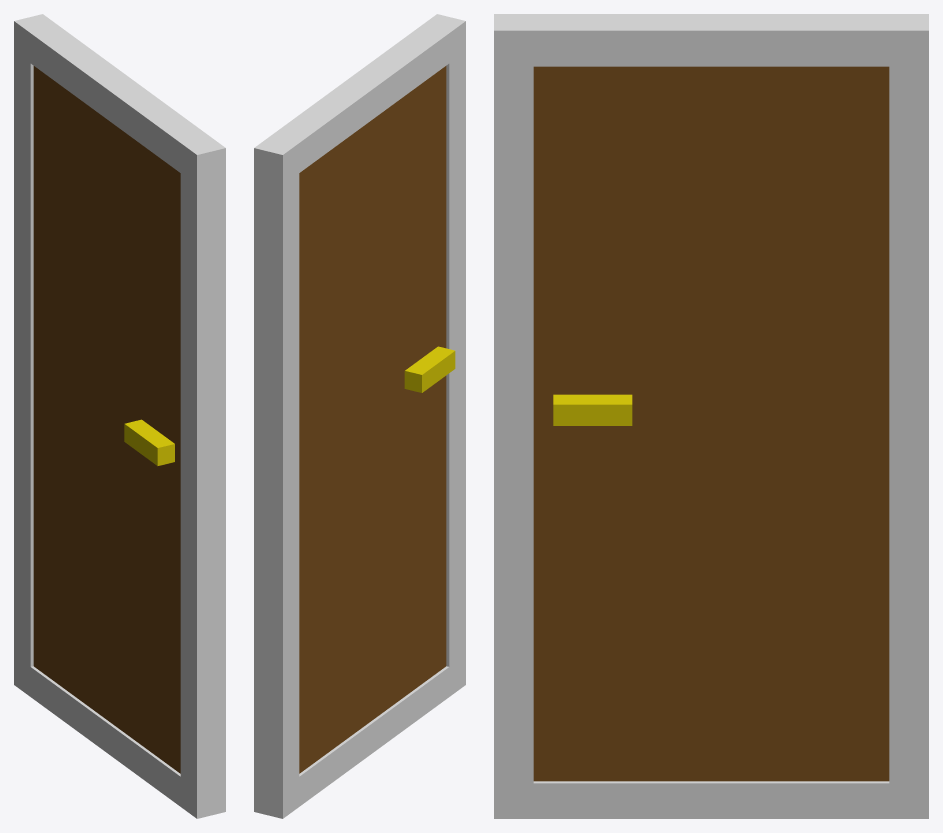
File: door.fbx
3 views of the same model, side by side, from view 1: azimuth 30°, elevation 25°; view 2: azimuth 150°, elevation 25°; view 3: azimuth 270°, elevation 25° (orthographic). The views are drawn at different scales.
Parts seen in each view (by area): view 1: 立方体.001, 立方体, 立方体.002; view 2: 立方体.001, 立方体, 立方体.002; view 3: 立方体.001, 立方体, 立方体.002.
Boxes of the visible parts, x1,y1,x2,y2 form: 立方体.001: [33, 66, 180, 773]; 立方体: [14, 14, 225, 818]; 立方体.002: [124, 419, 174, 465]; 立方体.001: [299, 66, 446, 773]; 立方体: [254, 14, 465, 818]; 立方体.002: [404, 346, 455, 392]; 立方体.001: [533, 66, 889, 781]; 立方体: [494, 14, 928, 818]; 立方体.002: [553, 394, 632, 425].
Size of the model in its own units: 200 by 2200 by 1100.
